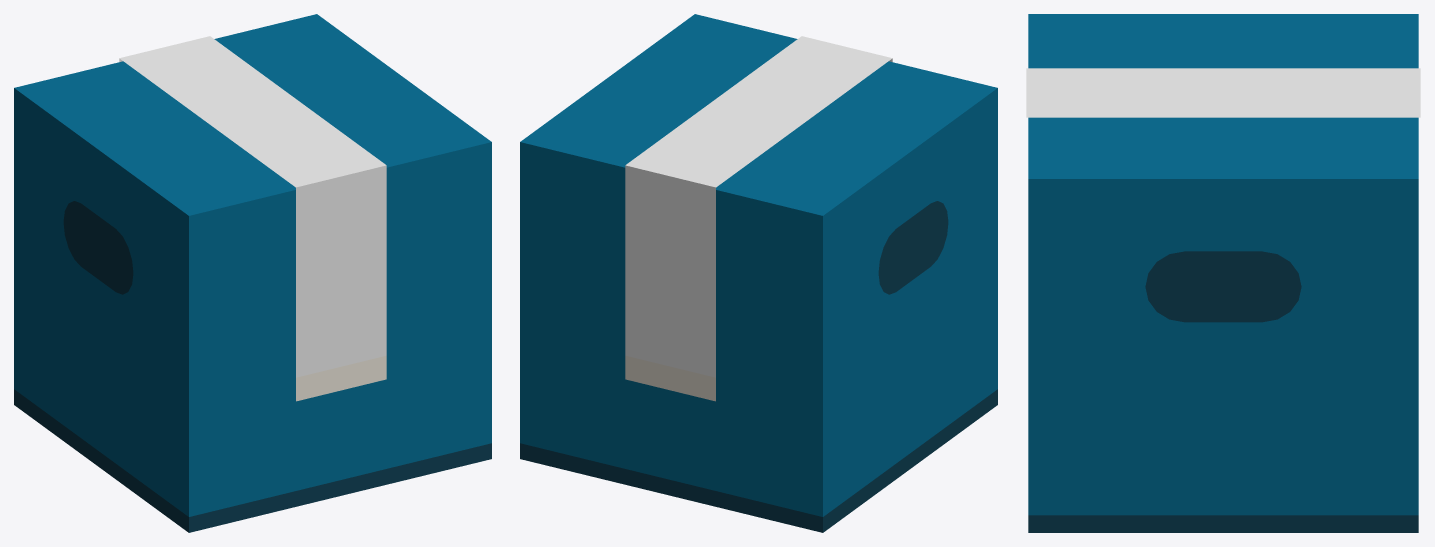
Rendered from G01_013_BoxA.fbx.
3 renders of one model, left to right at view 1: azimuth 30°, elevation 25°; view 2: azimuth 150°, elevation 25°; view 3: azimuth 270°, elevation 25°, orthographic. The views are drawn at different scales.
Visible parts, largest first — view 1: 004_Box_Blue, 平面.042, 圆环; view 2: 004_Box_Blue, 平面.042, 圆环; view 3: 004_Box_Blue, 平面.042, 圆环.001.
Part boxes in pixels (bbox=[...]): 004_Box_Blue: bbox=[14, 14, 491, 532]; 平面.042: bbox=[119, 36, 386, 401]; 圆环: bbox=[63, 201, 133, 294]; 004_Box_Blue: bbox=[520, 14, 997, 532]; 平面.042: bbox=[625, 36, 892, 401]; 圆环: bbox=[878, 201, 948, 294]; 004_Box_Blue: bbox=[1028, 14, 1418, 532]; 平面.042: bbox=[1026, 68, 1420, 117]; 圆环.001: bbox=[1145, 251, 1301, 322].
Bounding box in the file's own units: 102 × 101 × 101.
